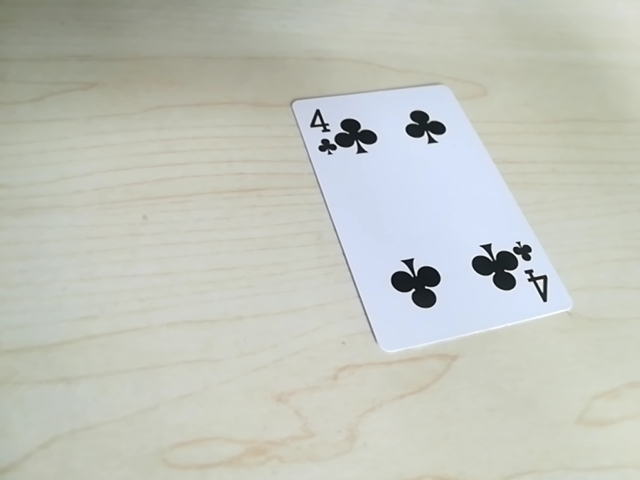mh 4: (302, 101, 447, 158), (505, 235, 547, 303)
